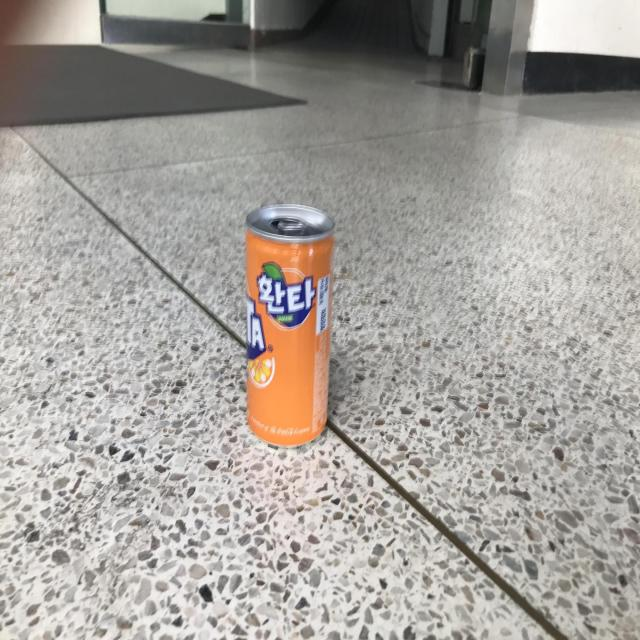can: (246, 204, 335, 446)
